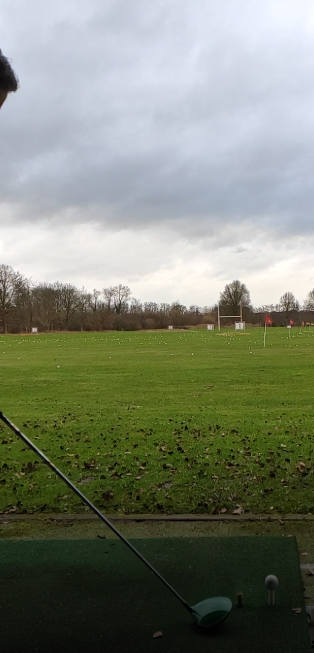golfball: (263, 574, 278, 590)
